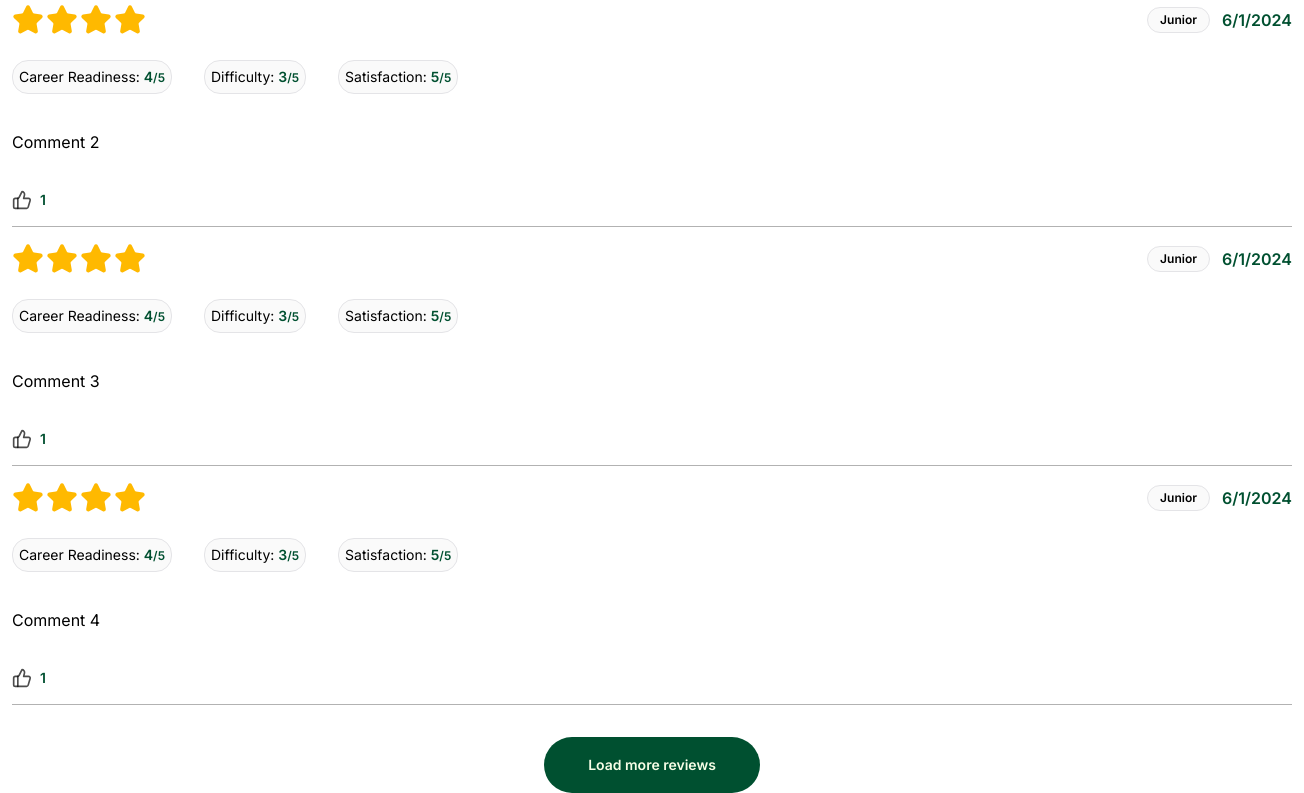
ReviewList › shows load more when there are additional reviews
The width and height of the screenshot is (1304, 793).
(page scrolled)
Expected: the text "Comment 5" is not shown
Click the button labelled "Load more reviews": (652, 765) [544,737,760,792]
(page scrolled)
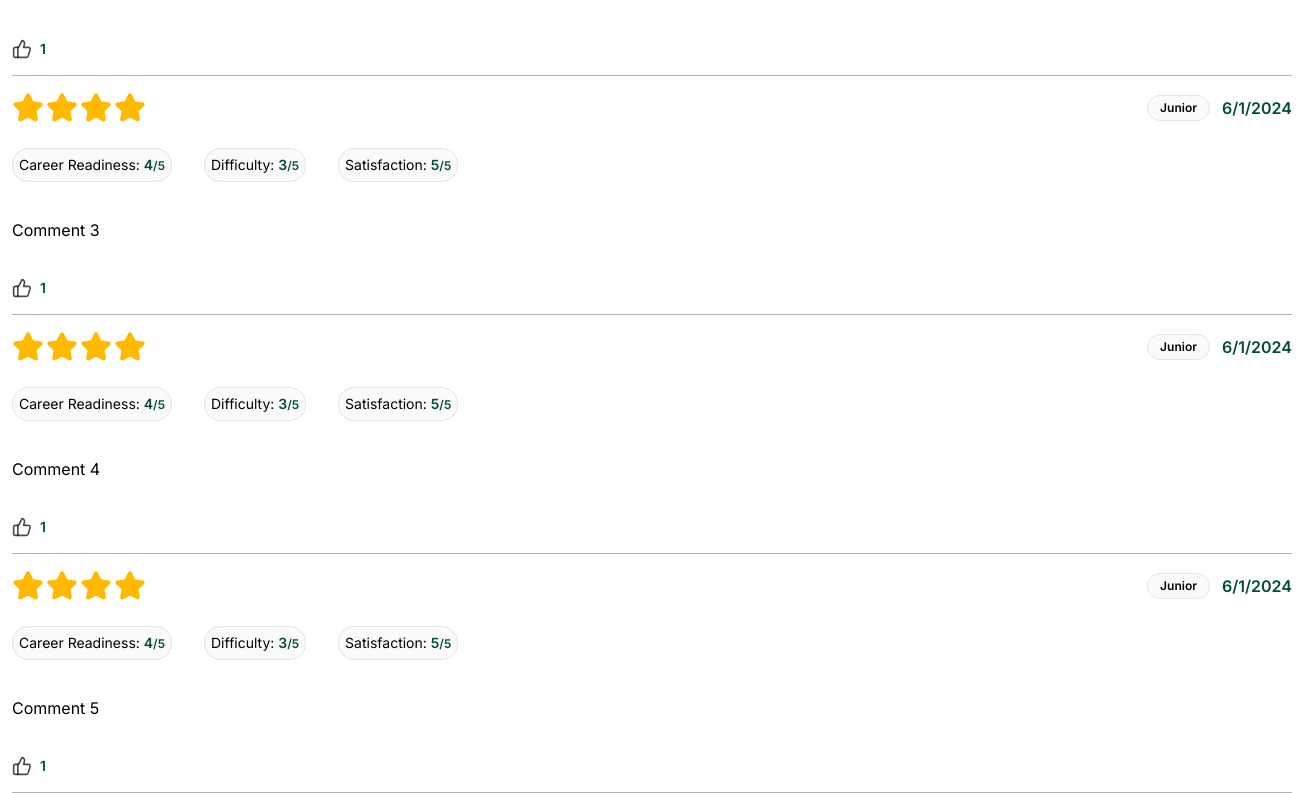
Expected: the text "Comment 5" is shown, [12,698,99,718]
